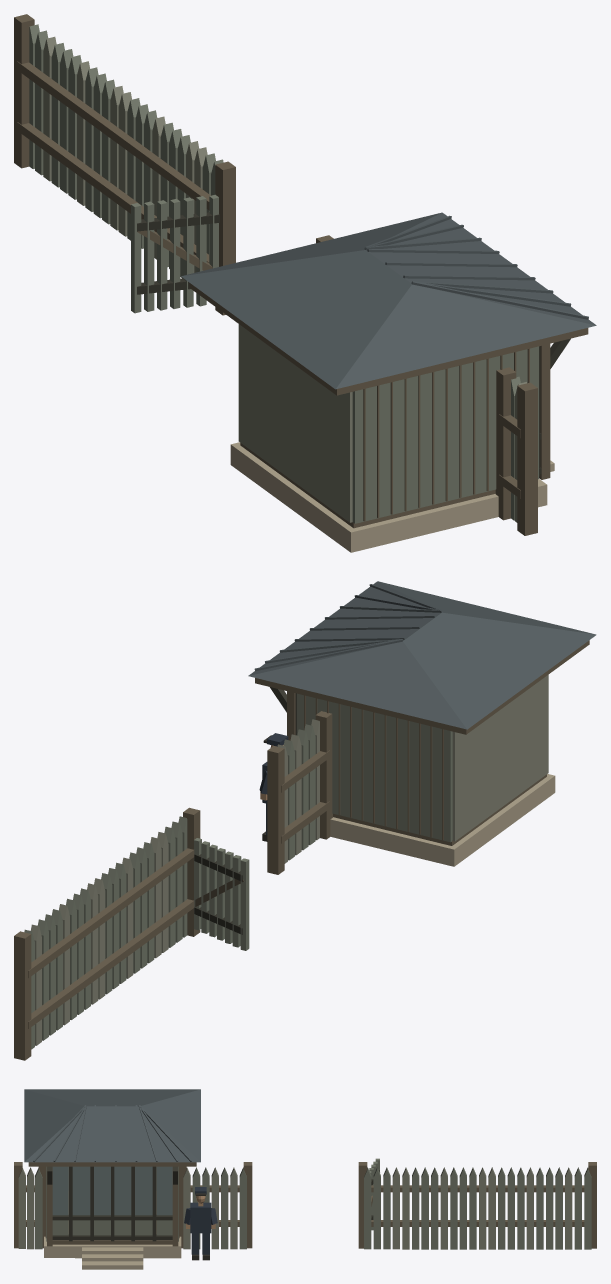
Rendered from photo-entrance.glb.
3 views of the same model, one above another, from view 1: azimuth 30°, elevation 25°; view 2: azimuth 150°, elevation 25°; view 3: azimuth 270°, elevation 25° (orthographic). The views are drawn at different scales.
Parts seen in each view (by area): view 1: Shallow hipped zinc roof, Booth solid side, Booth back wall, Photographed booth plinth, Fence crossrail.005, Fence square post, Upper fascia, Fence square post.005, Fence crossrail.004, Fence square post.001, Fence square post.004, Front porch post (+25 smaller); view 2: Shallow hipped zinc roof, Booth solid side.001, Booth back wall, Photographed booth plinth, Fence crossrail.004, Fence crossrail.005, Fence square post.003, Fence square post.005, Upper fascia, Fence square post.002, Fence square post.004, Open gate board.007 (+30 smaller); view 3: Shallow hipped zinc roof, Photographed booth plinth, Recessed front pane.001, Recessed front pane.004, Recessed front pane.003, Recessed front pane.002, Recessed front pane, Recessed front pane.005, Upper fascia, Front horizontal frame, Front horizontal frame.001, Attendant long coat (+57 smaller).
Boxes of the visible parts, x1,y1,x2,y2 form: Shallow hipped zinc roof: (181, 212, 596, 389); Booth solid side: (352, 346, 538, 523); Booth back wall: (238, 324, 352, 522); Photographed booth plinth: (230, 442, 547, 552); Fence crossrail.005: (17, 61, 210, 210); Fence square post: (517, 382, 537, 535); Upper fascia: (189, 283, 588, 395); Fence square post.005: (14, 14, 34, 168); Fence crossrail.004: (17, 122, 209, 262); Fence square post.001: (495, 367, 516, 520); Fence square post.004: (215, 161, 235, 315); Front porch post: (539, 343, 550, 479); Shallow hipped zinc roof: (248, 581, 596, 729); Booth solid side.001: (296, 693, 452, 842); Booth back wall: (452, 675, 548, 841); Photographed booth plinth: (330, 774, 555, 866); Fence crossrail.004: (28, 899, 194, 1028); Fence crossrail.005: (28, 848, 194, 977); Fence square post.003: (267, 746, 284, 874); Fence square post.005: (14, 931, 31, 1060); Upper fascia: (255, 640, 589, 734); Fence square post.002: (315, 711, 332, 839); Fence square post.004: (183, 807, 200, 936); Open gate board.007: (240, 858, 249, 950); Shallow hipped zinc roof: (24, 1089, 200, 1162); Photographed booth plinth: (44, 1236, 181, 1258); Recessed front pane.001: (72, 1166, 90, 1215); Recessed front pane.004: (135, 1166, 152, 1215); Recessed front pane.003: (114, 1166, 131, 1215); Recessed front pane.002: (94, 1166, 110, 1215); Recessed front pane: (52, 1166, 68, 1215); Recessed front pane.005: (156, 1166, 172, 1215); Upper fascia: (28, 1162, 196, 1166); Front horizontal frame: (52, 1234, 172, 1240); Front horizontal frame.001: (52, 1215, 172, 1220); Attendant long coat: (190, 1202, 211, 1233).
Size of the model in its own units: 4.33 by 3.39 by 14.21.
